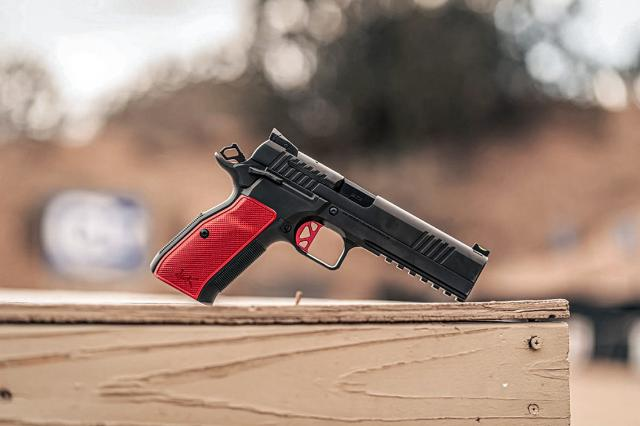handgun: (148, 126, 494, 306)
